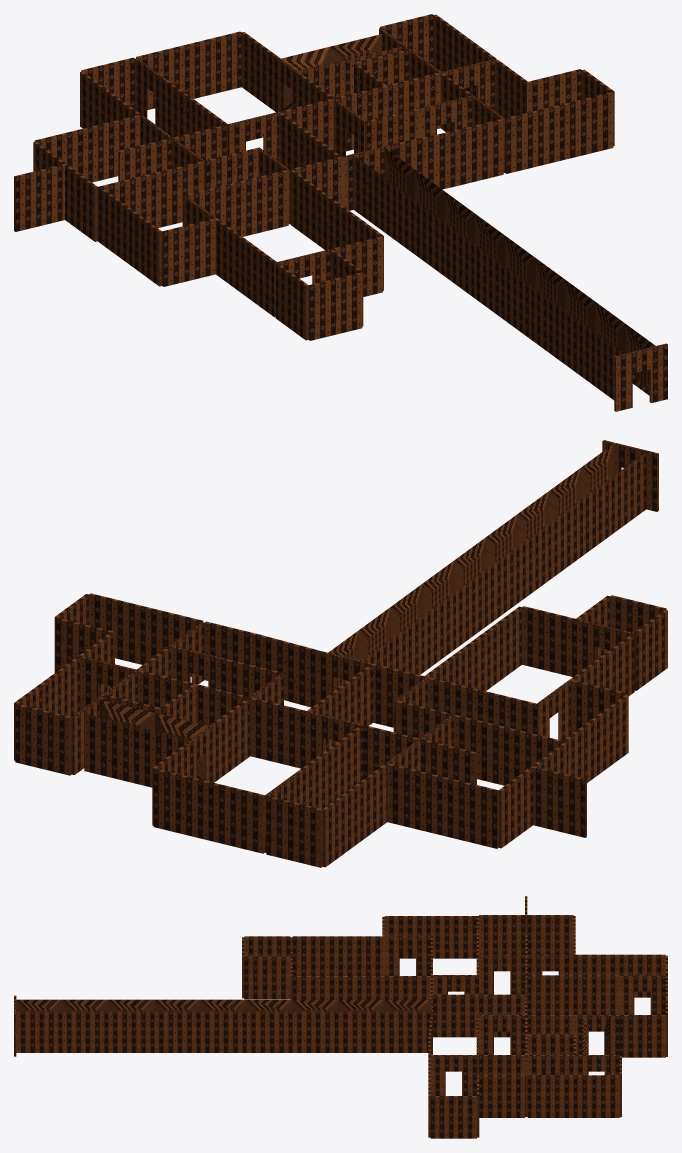
The model's file is WALLS (1).fbx.
The picture shows the model from 3 angles, top to bottom: view 1: azimuth 30°, elevation 25°; view 2: azimuth 150°, elevation 25°; view 3: azimuth 270°, elevation 25°; orthographic projection. The views are drawn at different scales.
Parts seen in each view (by area): view 1: Plane.057, Plane.056, Plane.040, Plane.041, Plane.072, Plane.042, Plane.060, Plane.016, Plane.054, Plane.030, Plane.058, Plane.020 (+53 smaller); view 2: Plane.057, Plane.056, Plane.021, Plane.002, Plane.032, Plane.012, Plane.016, Plane.020, Plane.009, Plane.070, Plane.014, Plane.030 (+54 smaller); view 3: Plane.056, Plane.057, Plane.073, Plane.033, Plane.036, Plane.037, Plane.039, Plane.017, Plane.062, Plane.064, Plane.006, Plane.008 (+25 smaller).
Part boxes in pixels (bbox=[...]): Plane.057: bbox=[353, 155, 623, 400]; Plane.056: bbox=[385, 148, 655, 395]; Plane.040: bbox=[558, 92, 613, 160]; Plane.041: bbox=[505, 105, 559, 173]; Plane.072: bbox=[308, 272, 362, 340]; Plane.042: bbox=[449, 119, 503, 187]; Plane.060: bbox=[162, 219, 215, 286]; Plane.016: bbox=[188, 31, 241, 98]; Plane.054: bbox=[235, 170, 288, 236]; Plane.030: bbox=[14, 163, 67, 231]; Plane.058: bbox=[614, 343, 667, 411]; Plane.020: bbox=[87, 115, 140, 182]; Plane.057: bbox=[361, 452, 646, 674]; Plane.056: bbox=[328, 444, 613, 690]; Plane.021: bbox=[442, 777, 498, 848]; Plane.002: bbox=[266, 796, 322, 867]; Plane.032: bbox=[15, 704, 71, 775]; Plane.012: bbox=[208, 782, 264, 853]; Plane.016: bbox=[153, 768, 209, 840]; Plane.020: bbox=[387, 763, 443, 835]; Plane.009: bbox=[250, 697, 306, 768]; Plane.070: bbox=[522, 606, 578, 676]; Plane.014: bbox=[84, 713, 139, 784]; Plane.030: bbox=[531, 766, 586, 837]; Plane.056: bbox=[16, 1011, 430, 1052]; Plane.057: bbox=[16, 999, 430, 1011]; Plane.073: bbox=[244, 956, 290, 999]; Plane.033: bbox=[573, 1075, 619, 1117]; Plane.036: bbox=[527, 1075, 573, 1117]; Plane.037: bbox=[479, 1075, 525, 1117]; Plane.039: bbox=[430, 1096, 476, 1138]; Plane.017: bbox=[619, 1015, 665, 1057]; Plane.062: bbox=[433, 994, 478, 1037]; Plane.064: bbox=[430, 916, 476, 958]; Plane.006: bbox=[573, 975, 619, 1014]; Plane.008: bbox=[527, 975, 573, 1014].
Size of the model in its own units: 2060 by 200 by 2841.
